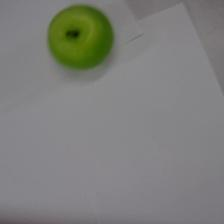green: (47, 3, 115, 69)
